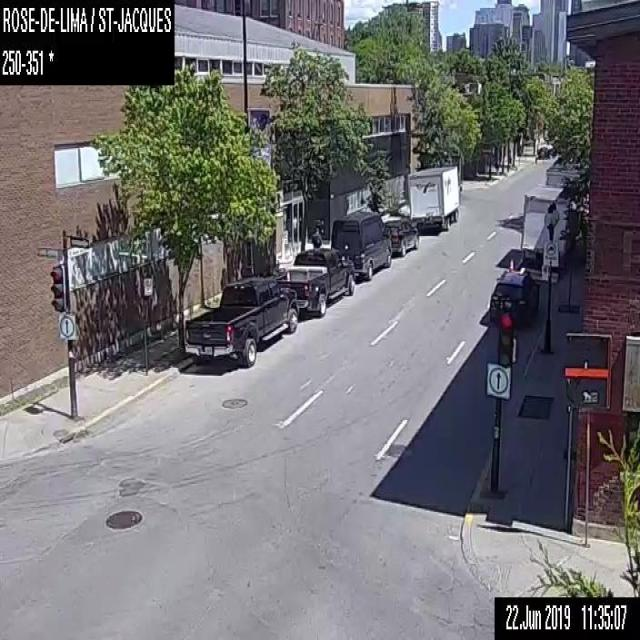pedestrian: (311, 226, 321, 248)
vehicle: (182, 276, 299, 365), (277, 244, 354, 316), (516, 186, 576, 264), (331, 210, 391, 275), (406, 166, 459, 229), (489, 264, 539, 327), (382, 221, 418, 253)
